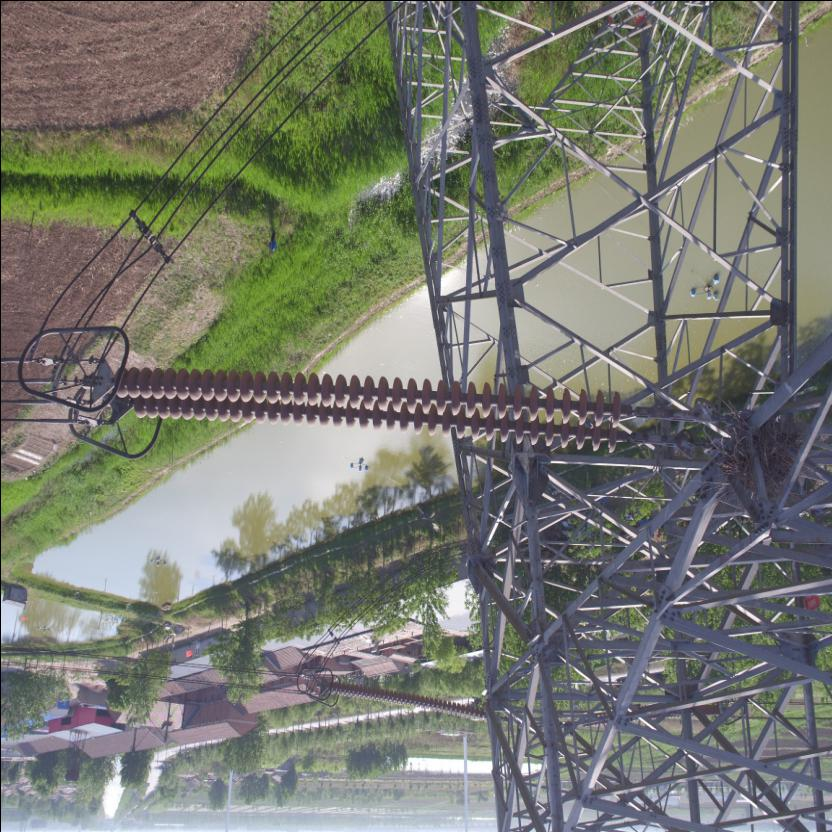insulator: (104, 362, 690, 458)
